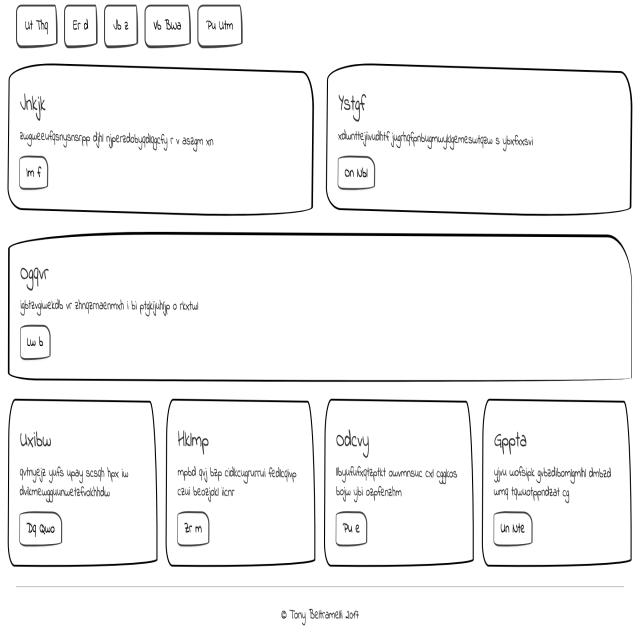Button: (487, 509, 538, 550), (332, 153, 381, 194), (16, 506, 65, 547), (333, 504, 373, 550), (174, 506, 212, 552), (16, 156, 54, 194), (18, 324, 54, 363)
Card: (5, 231, 635, 387), (324, 59, 633, 219), (6, 65, 313, 215), (0, 575, 640, 640), (481, 396, 634, 567), (7, 398, 160, 566), (166, 398, 317, 568), (324, 397, 474, 565)
Heading 6: (16, 79, 54, 124), (334, 418, 376, 457), (490, 423, 533, 459), (335, 80, 369, 122), (175, 423, 213, 459), (18, 418, 54, 455), (16, 260, 54, 294)
Navigation Bar: (12, 0, 252, 54)
Paragraph: (332, 121, 542, 152), (18, 123, 216, 155), (483, 466, 622, 507), (329, 460, 458, 504), (174, 464, 298, 504), (14, 461, 131, 503), (18, 295, 204, 321)
